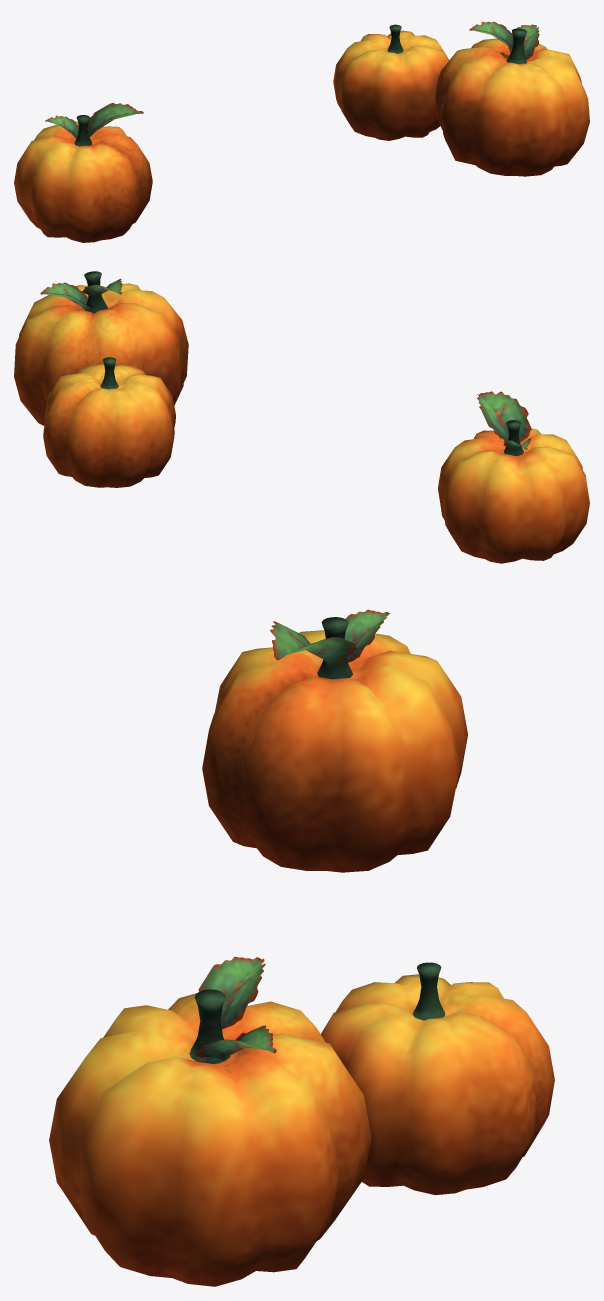
The model's file is pumkin.fbx.
The picture shows the model from 3 angles, top to bottom: view 1: azimuth 30°, elevation 25°; view 2: azimuth 150°, elevation 25°; view 3: azimuth 270°, elevation 25°; orthographic projection. The views are drawn at different scales.
Parts seen in each view (by area): view 1: Ghost, Ghost.001; view 2: Ghost, Ghost.001; view 3: Ghost, Ghost.001.
Boxes of the visible parts, box(x1,y1,x2,y2) form: Ghost: box(14, 24, 589, 242); Ghost.001: box(45, 21, 539, 139); Ghost: box(14, 271, 589, 563); Ghost.001: box(40, 279, 531, 450); Ghost: box(49, 617, 554, 1286); Ghost.001: box(195, 609, 390, 1060).
Size of the model in its own units: 483 by 123 by 202.
1 material, 1 textured.
